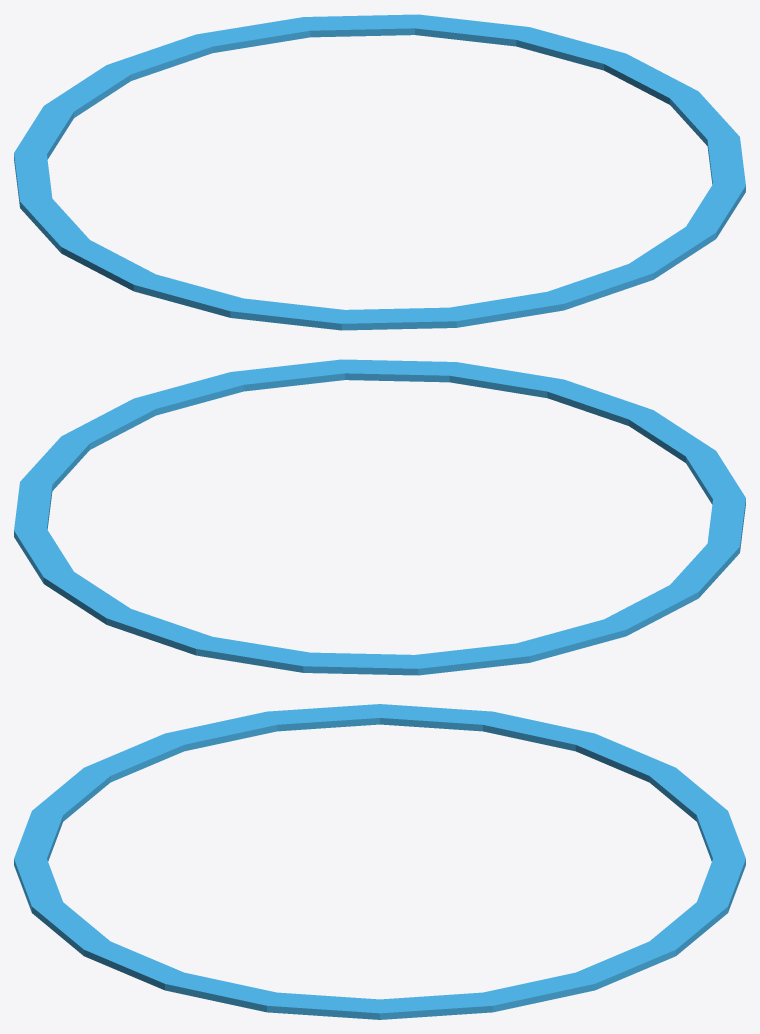
The model's file is FX_Shield_Ring.fbx.
3 renders of one model, top to bottom at view 1: azimuth 30°, elevation 25°; view 2: azimuth 150°, elevation 25°; view 3: azimuth 270°, elevation 25°, orthographic.
Visible parts, largest first — view 1: Ring; view 2: Ring; view 3: Ring.
Part boxes in pixels (box(x1,y1,x2,y2)): Ring: box(14, 14, 745, 330); Ring: box(14, 359, 745, 675); Ring: box(14, 704, 745, 1019).
Bounding box in the file's own units: 10 × 0.1 × 10.
